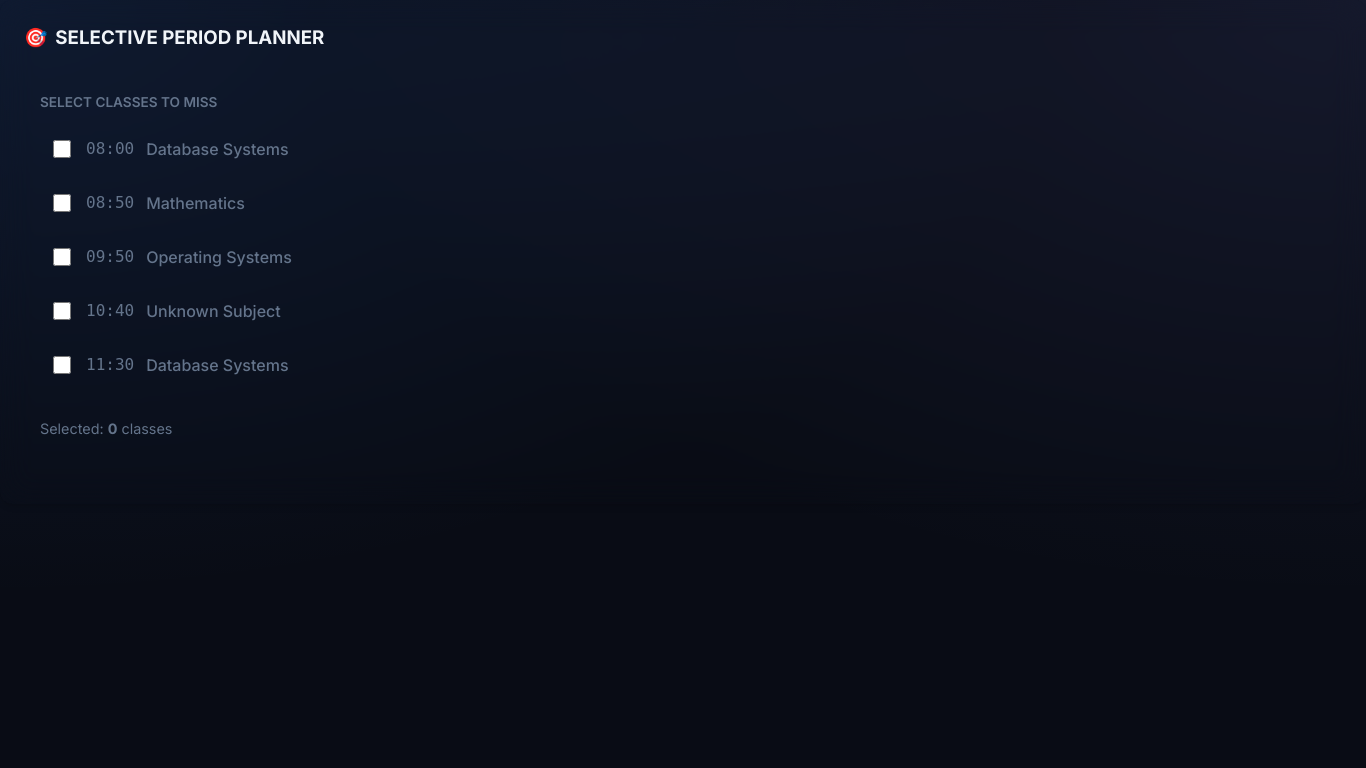
it: SelectivePeriodPlanner › calculates properly when all periods (including duplicates) are selected
Click the checkbox labelled "08:00 Database Systems" at (62, 150), box left=53, top=140, right=71, bottom=158
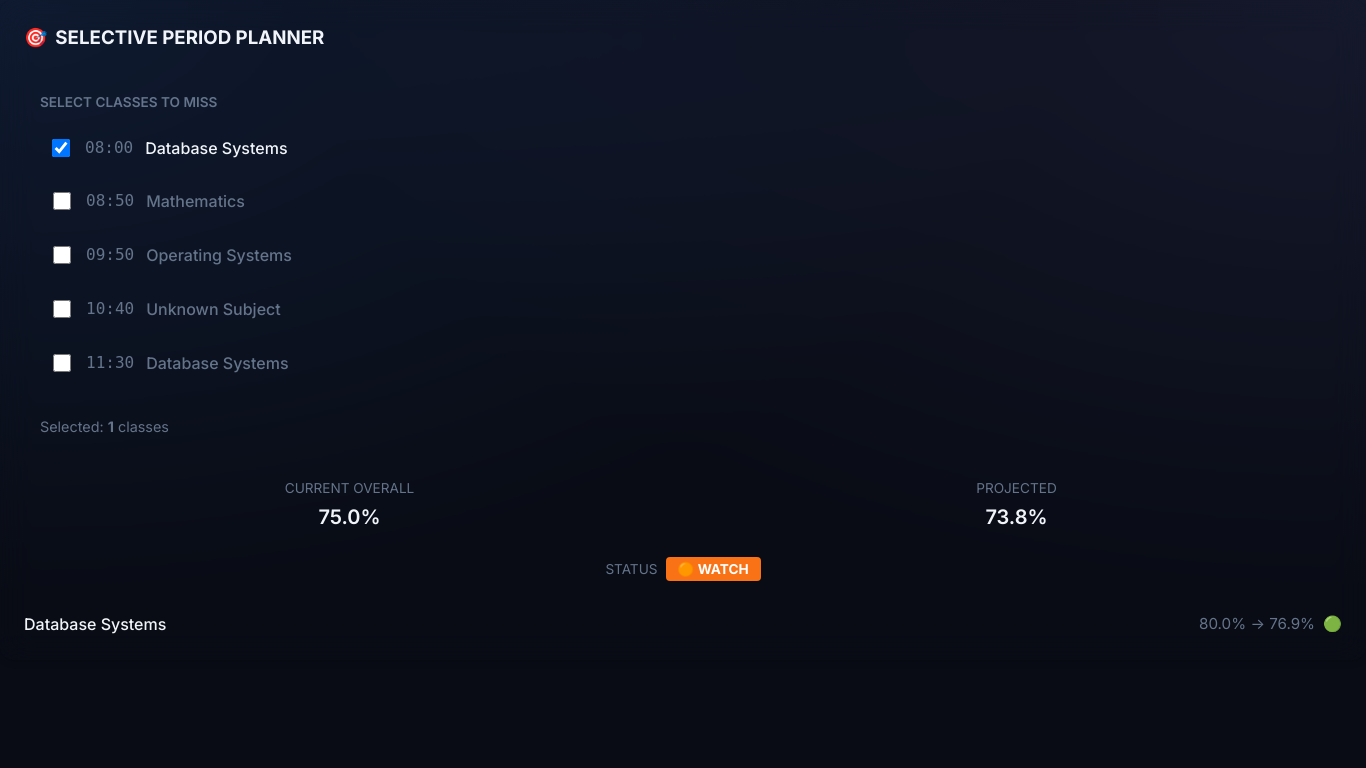
Click the checkbox labelled "08:50 Mathematics" at (62, 202), box left=53, top=192, right=71, bottom=210
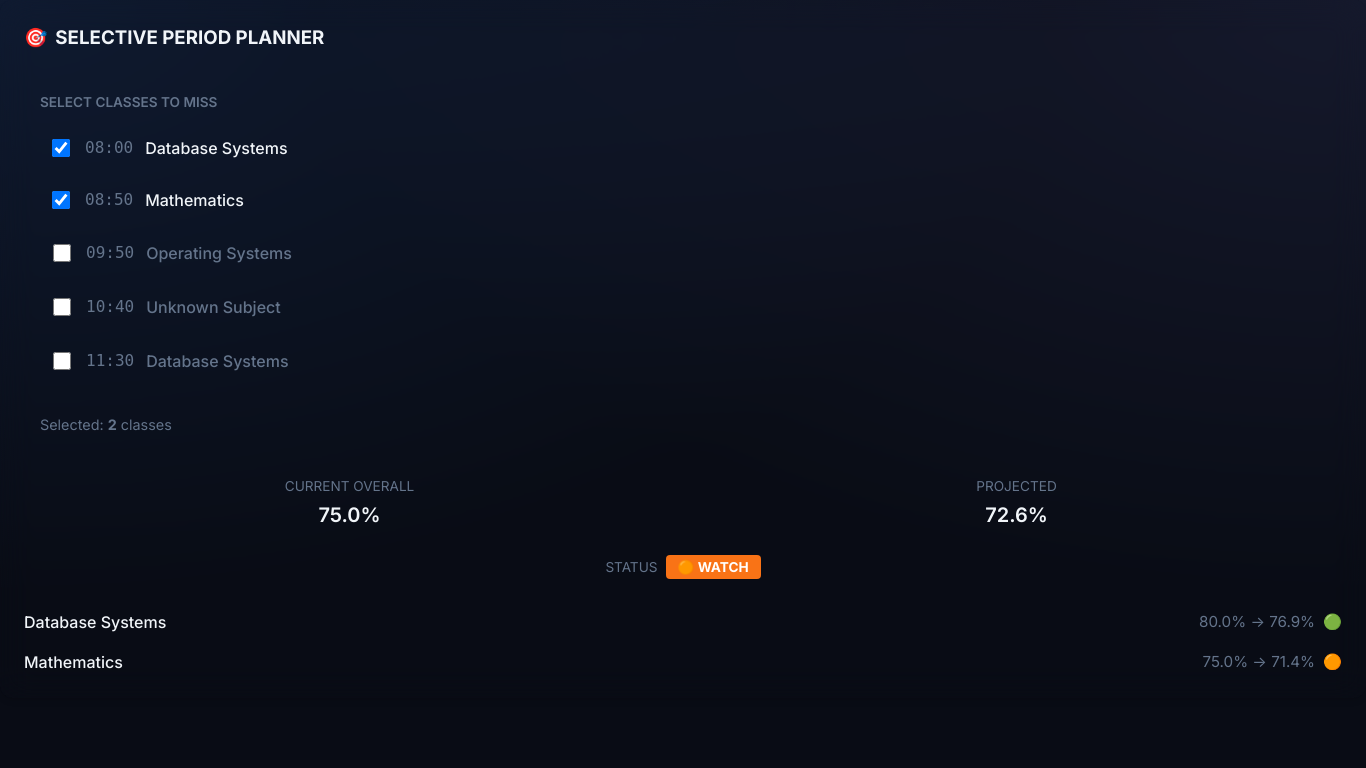
Click the checkbox labelled "09:50 Operating Systems" at (62, 254), box left=53, top=244, right=71, bottom=262
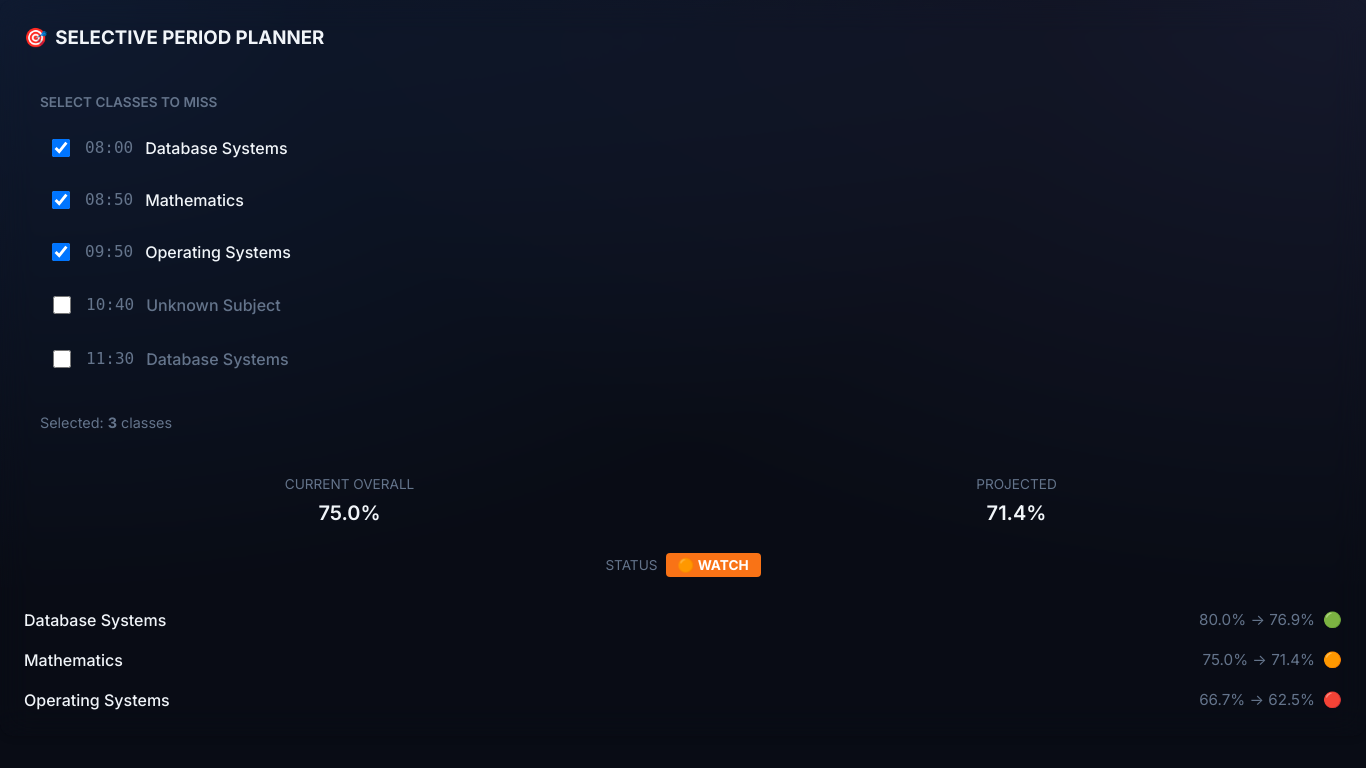
Click the checkbox labelled "10:40 Unknown Subject" at (62, 306), box left=53, top=296, right=71, bottom=314
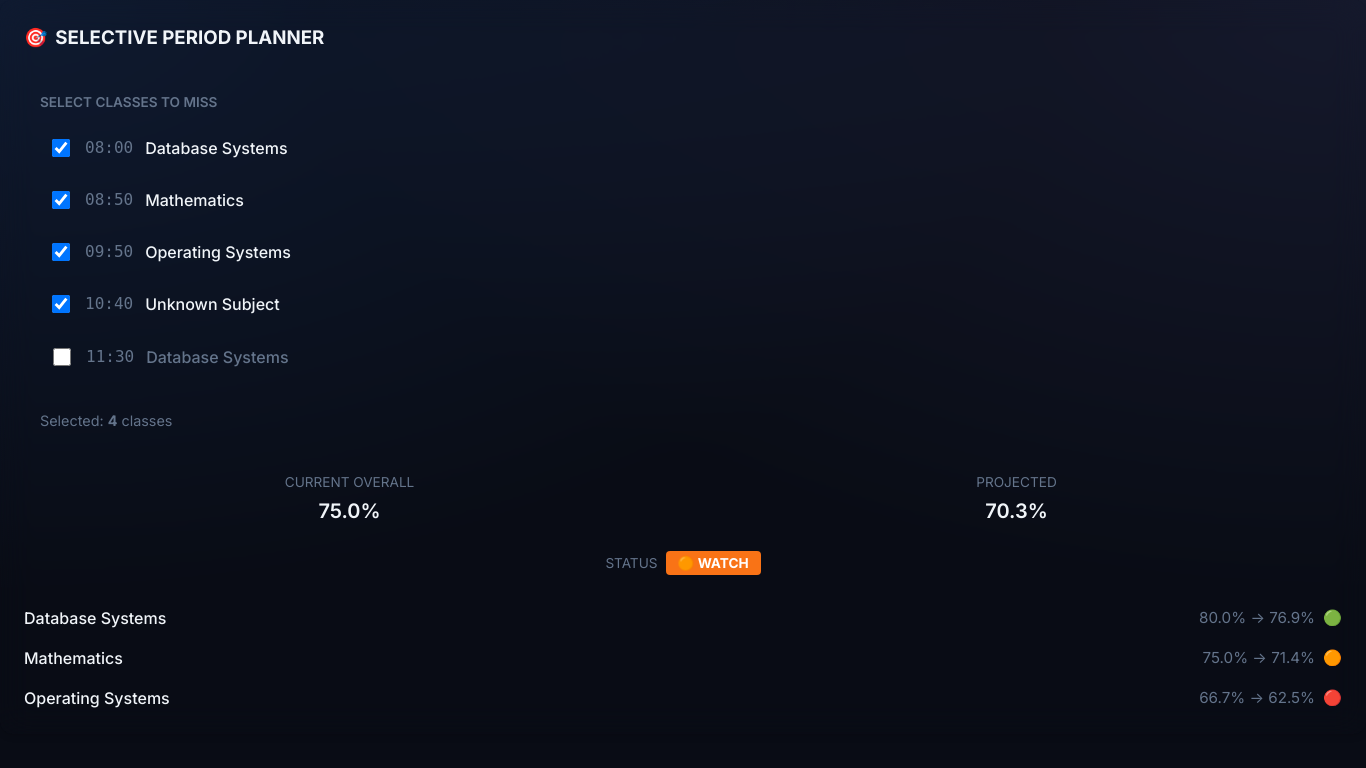
Click the checkbox labelled "11:30 Database Systems" at (62, 358), box left=53, top=348, right=71, bottom=366
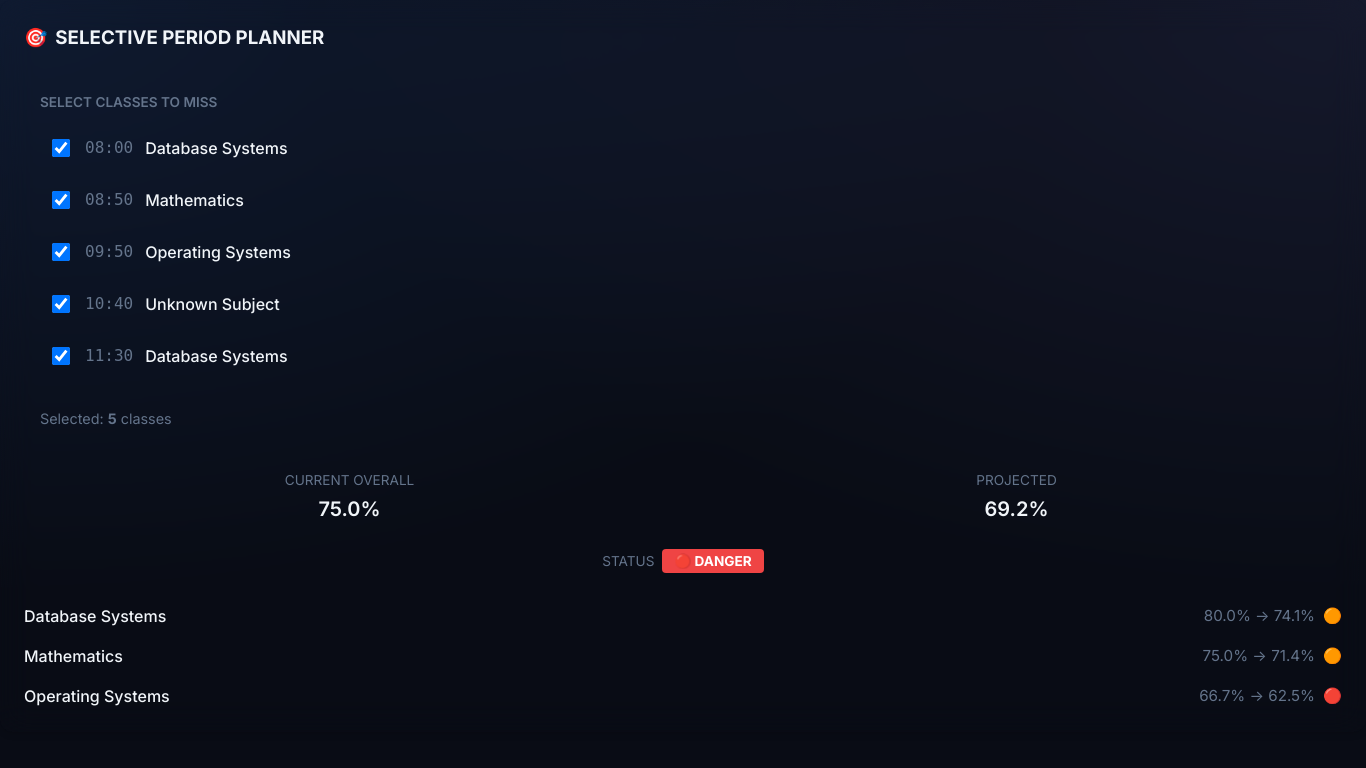
Result: the text "5" is shown at left=108, top=410, right=117, bottom=428
Result: the text "69.2%" is shown at left=984, top=498, right=1048, bottom=522
